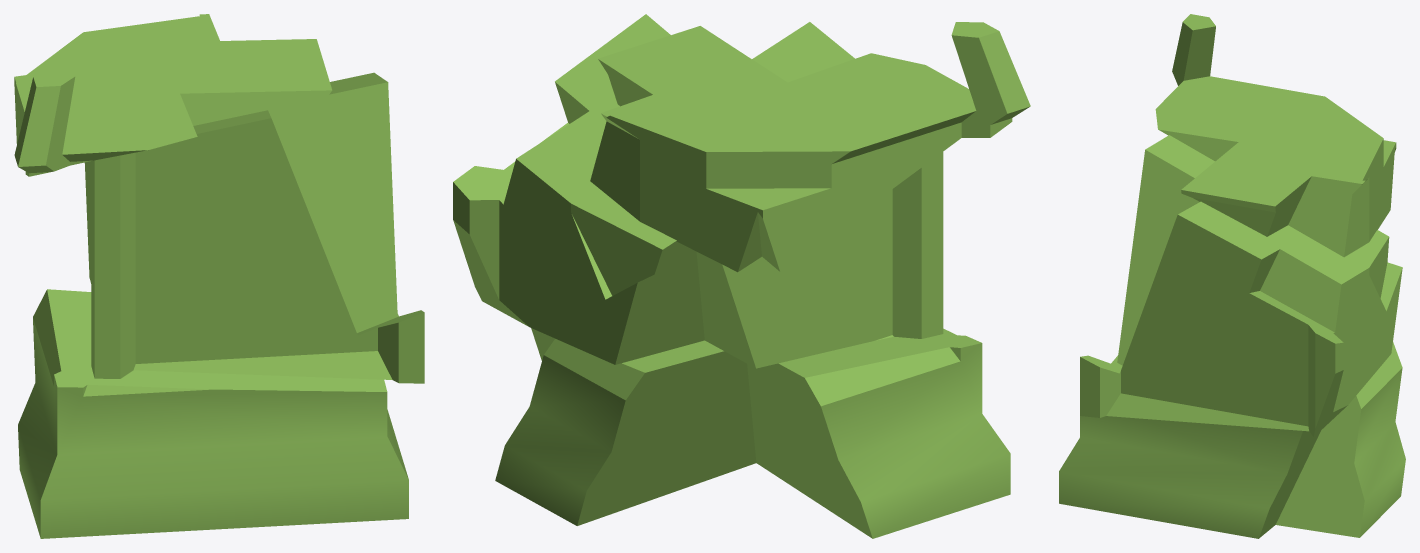
Rendered from Debris9.obj.
The picture shows the model from 3 angles, left to right: view 1: azimuth 30°, elevation 25°; view 2: azimuth 150°, elevation 25°; view 3: azimuth 270°, elevation 25°; orthographic projection. The views are drawn at different scales.
Visible parts, largest first — view 1: Debris9; view 2: Debris9; view 3: Debris9.
Boxes of the visible parts, x1,y1,x2,y2 form: Debris9: (14,14,424,538); Debris9: (453,14,1030,538); Debris9: (1059,14,1405,538).
Bounding box in the file's own units: 6.44 × 6 × 5.09.
